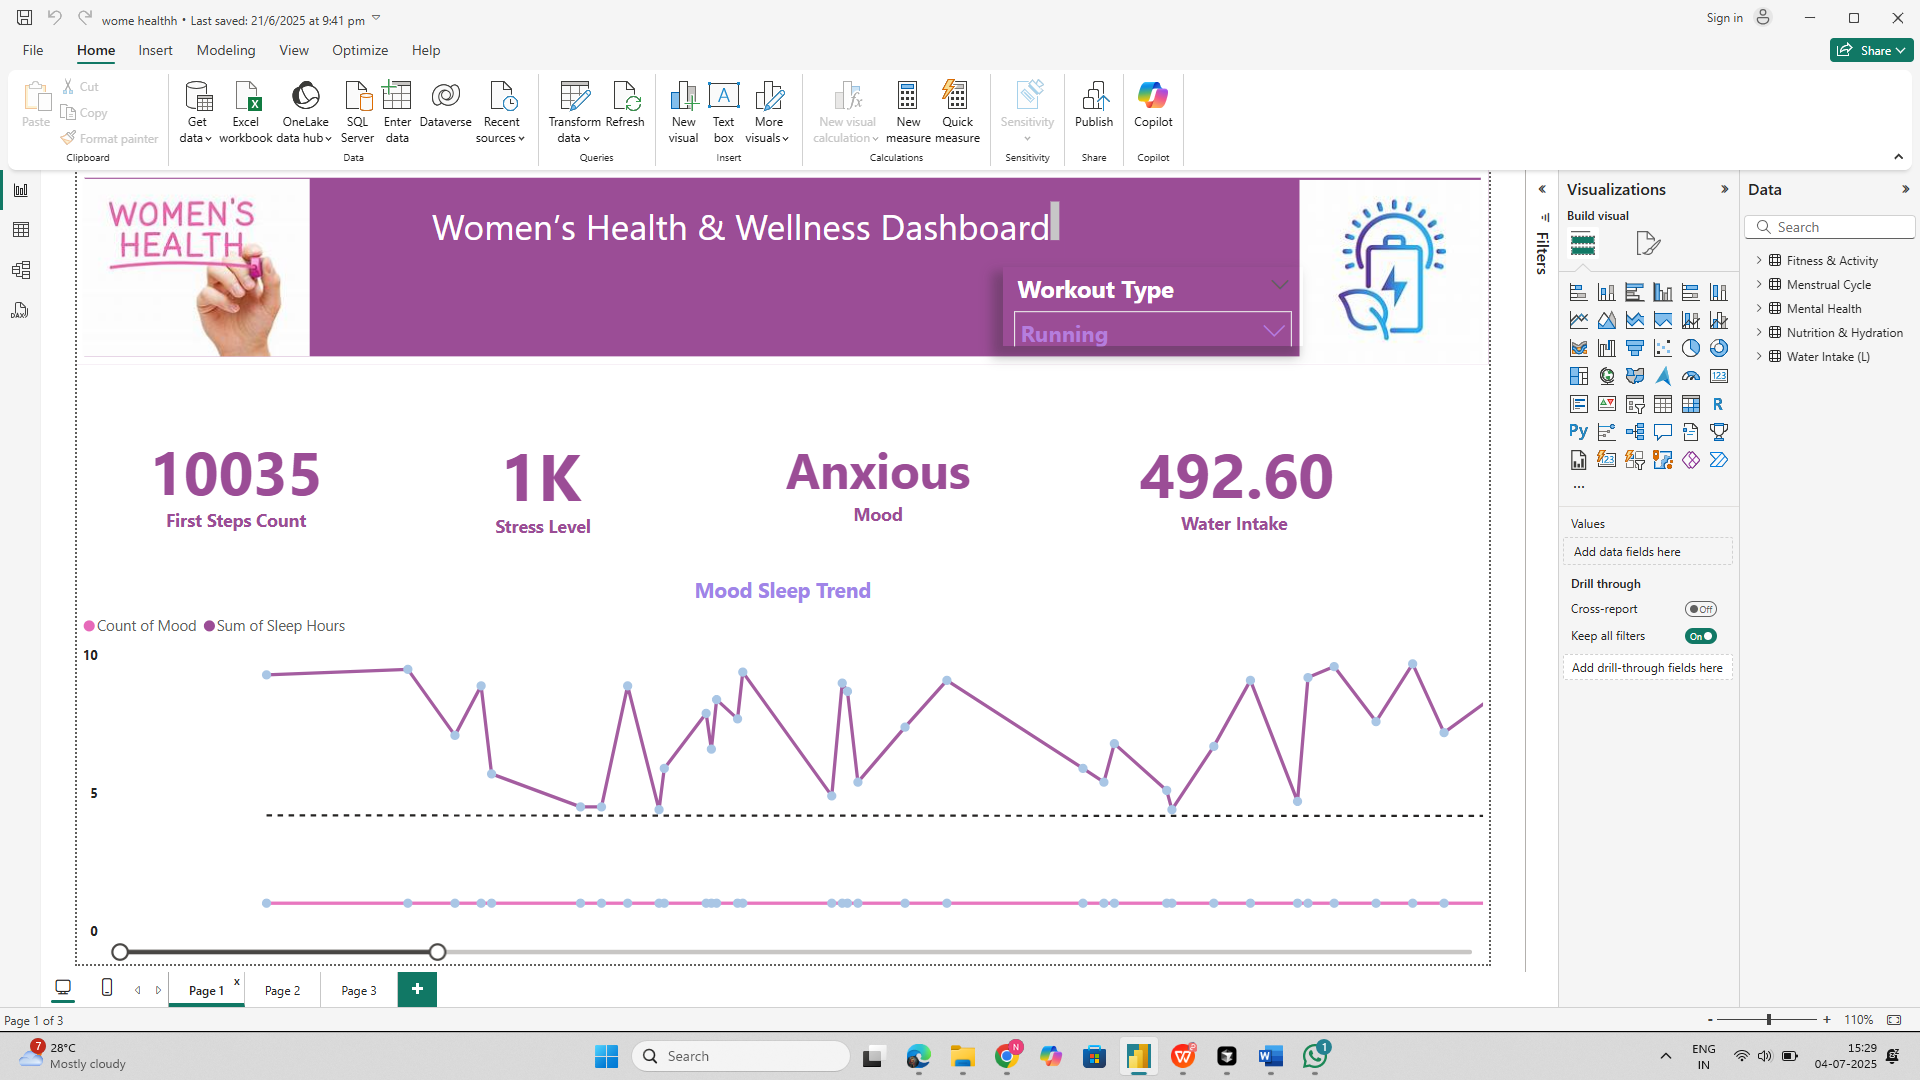

Layout of this report page (visuals, bound fields, positions):
{"tool":"powerbi","page":{"name":"Page 1","canvas":[1280,720],"ordinal":0},"visuals":[{"type":"shape","box":[0,0,1280,176],"z":0},{"type":"textbox","box":[304,24,592,56],"z":1000},{"type":"card","fields":{"Values":["Sum(Nutrition & Hydration.Water Intake (L))"]},"box":[904,192,280,184],"z":2000},{"type":"card","fields":{"Values":["Sum(Mental Health.Stress Level (1-10))"]},"box":[296,192,256,184],"z":3000},{"type":"card","fields":{"Values":["Min(Menstrual Cycle.Mood)"]},"box":[584,192,296,184],"z":4000},{"type":"card","fields":{"Values":["Min(Fitness & Activity.Steps Count)"]},"box":[24,192,240,184],"z":5000},{"type":"lineChart","title":"Mood Sleep Trend","fields":{"Category":["Mental Health.Date"],"Y":["Count(Mental Health.Mood)","Sum(Mental Health.Sleep Hours)"]},"box":[80,416,1128,272],"z":6000},{"type":"image","box":[0,0,216,176],"z":7000},{"type":"image","box":[1104,0,176,184],"z":8000},{"type":"slicer","fields":{"Values":["Fitness & Activity.Workout Type"]},"box":[840,88,272,72],"z":9000}]}

Visuals, with their boxes on the page's 1280x720 design canvas (x1, y1, x2, y2). These are canvas units, not pixel positions in the 1920x1080 screenshot, which may show the page scaled, cropped or inside an application window:
shape: l=0, t=0, r=1280, b=176
textbox: l=304, t=24, r=896, b=80
card - Sum(Nutrition & Hydration.Water Intake (L)): l=904, t=192, r=1184, b=376
card - Sum(Mental Health.Stress Level (1-10)): l=296, t=192, r=552, b=376
card - Min(Menstrual Cycle.Mood): l=584, t=192, r=880, b=376
card - Min(Fitness & Activity.Steps Count): l=24, t=192, r=264, b=376
"Mood Sleep Trend" lineChart: l=80, t=416, r=1208, b=688
image: l=0, t=0, r=216, b=176
image: l=1104, t=0, r=1280, b=184
slicer - Fitness & Activity.Workout Type: l=840, t=88, r=1112, b=160
